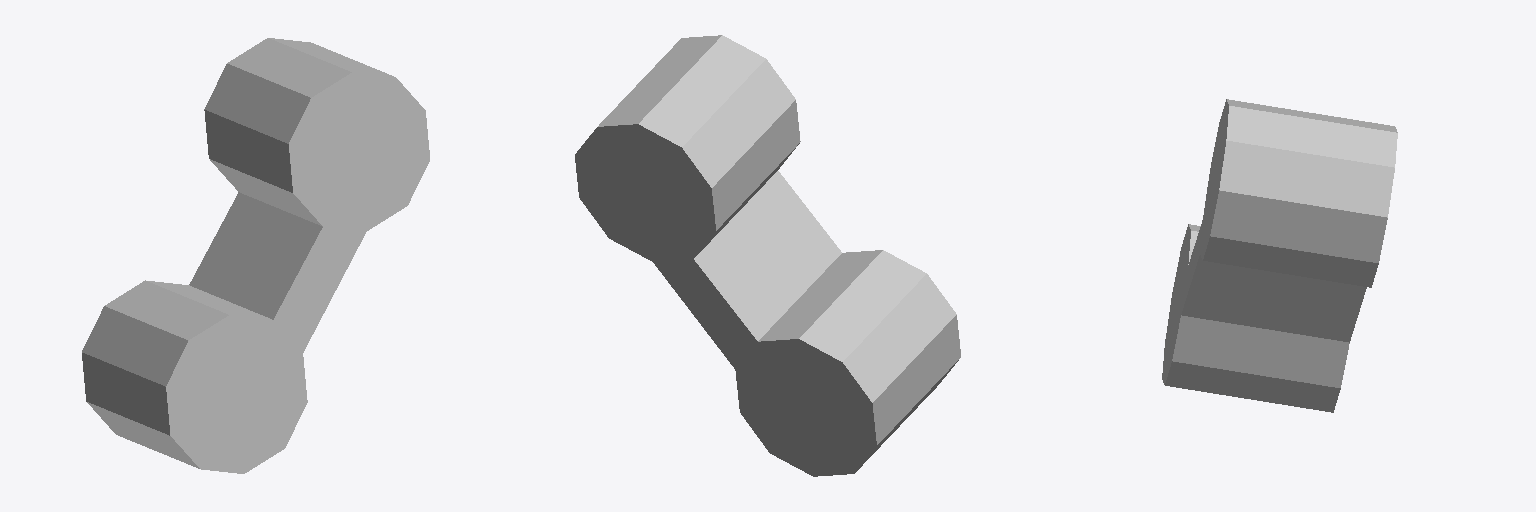
File: Inner_Rings_cuplink_thin.obj
3 renders of one model, left to right at view 1: azimuth 30°, elevation 25°; view 2: azimuth 150°, elevation 25°; view 3: azimuth 270°, elevation 25°, orthographic.
Visible parts, largest first — view 1: Cylinder.044_Cylinder.056; view 2: Cylinder.044_Cylinder.056; view 3: Cylinder.044_Cylinder.056.
Part boxes in pixels (x1,y1,x2,y2): Cylinder.044_Cylinder.056: (82, 38, 429, 473); Cylinder.044_Cylinder.056: (575, 35, 960, 476); Cylinder.044_Cylinder.056: (1162, 99, 1397, 412).
Size of the model in its own units: 0.0799 by 0.1013 by 0.0586.